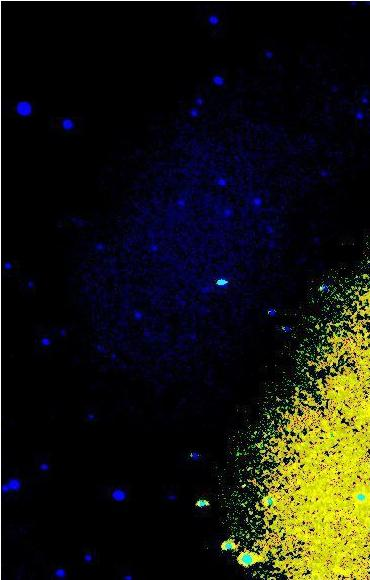star: (232, 464, 262, 494)
